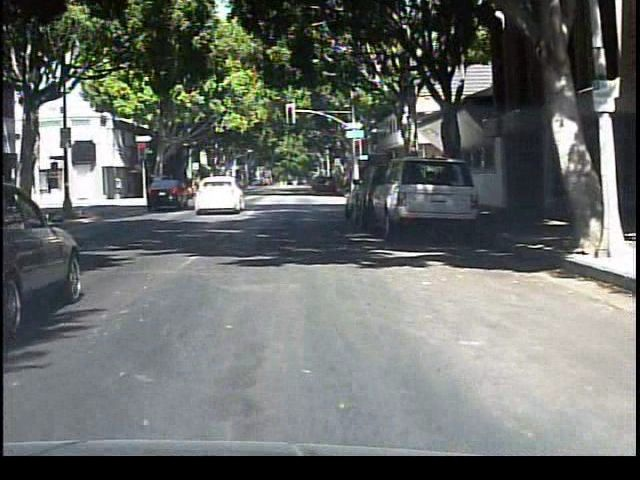person: (187, 169, 212, 212)
